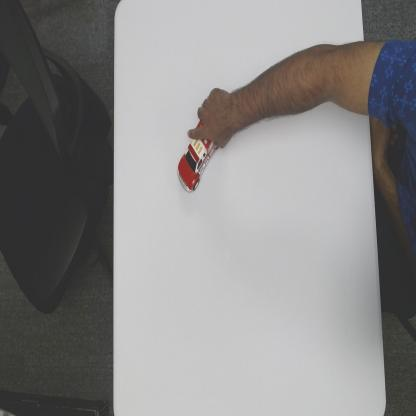Arm: (238, 43, 372, 135)
Firetruck: (176, 116, 214, 194)
Hand: (187, 81, 234, 154)
